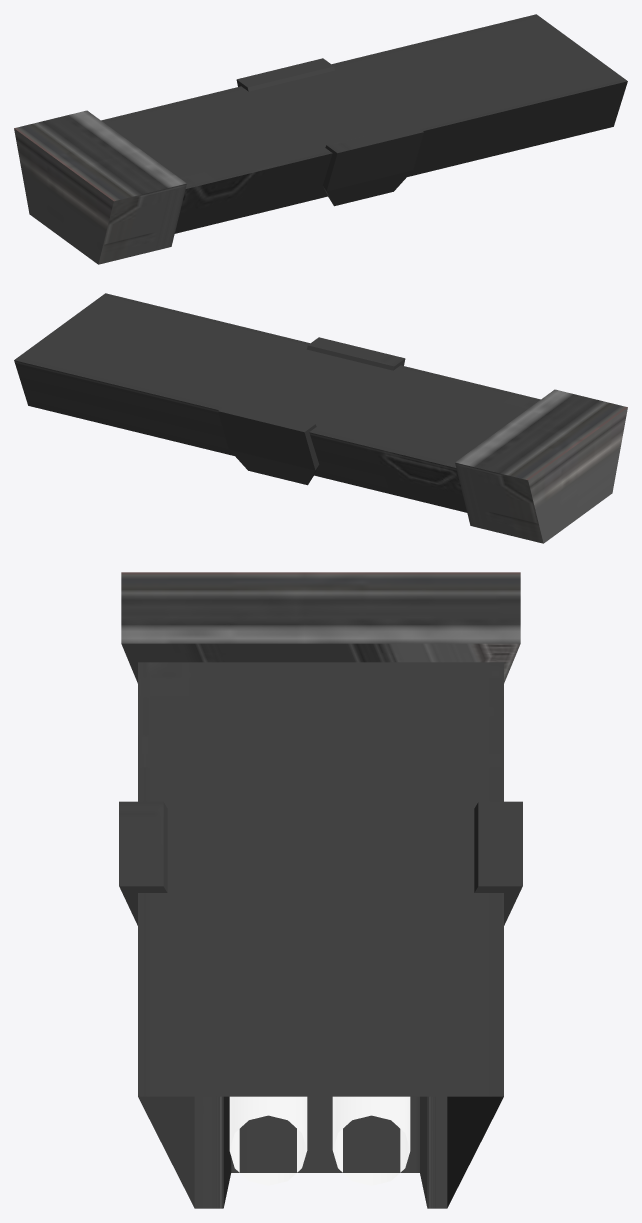
The model's file is sf_light_wide.glb.
3 views of the same model, one above another, from view 1: azimuth 30°, elevation 25°; view 2: azimuth 150°, elevation 25°; view 3: azimuth 270°, elevation 25° (orthographic). The views are drawn at different scales.
Parts seen in each view (by area): view 1: Prop_Light_Wide; view 2: Prop_Light_Wide; view 3: Prop_Light_Wide.
Boxes of the visible parts, x1,y1,x2,y2 form: Prop_Light_Wide: (14, 14, 627, 264); Prop_Light_Wide: (14, 293, 627, 543); Prop_Light_Wide: (119, 572, 522, 1208).
Bounding box in the file's own units: 1.32 × 0.1819 × 0.4453.
Materials: 2 (1 with a texture image).
